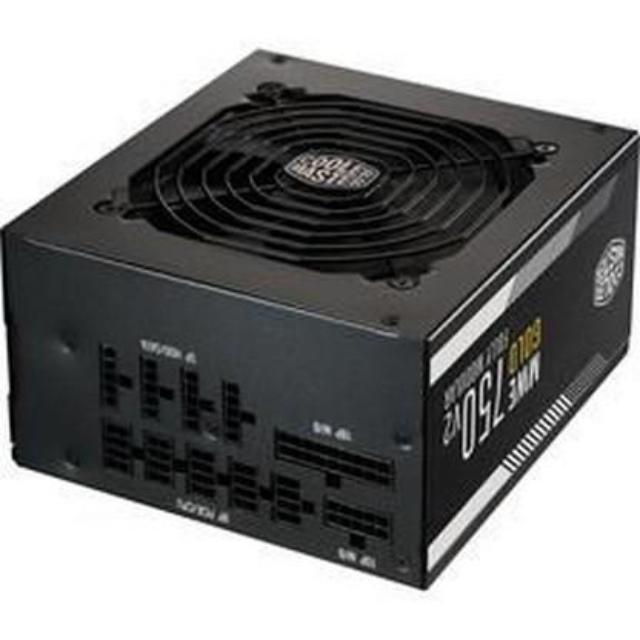PSU: (0, 40, 640, 605)
